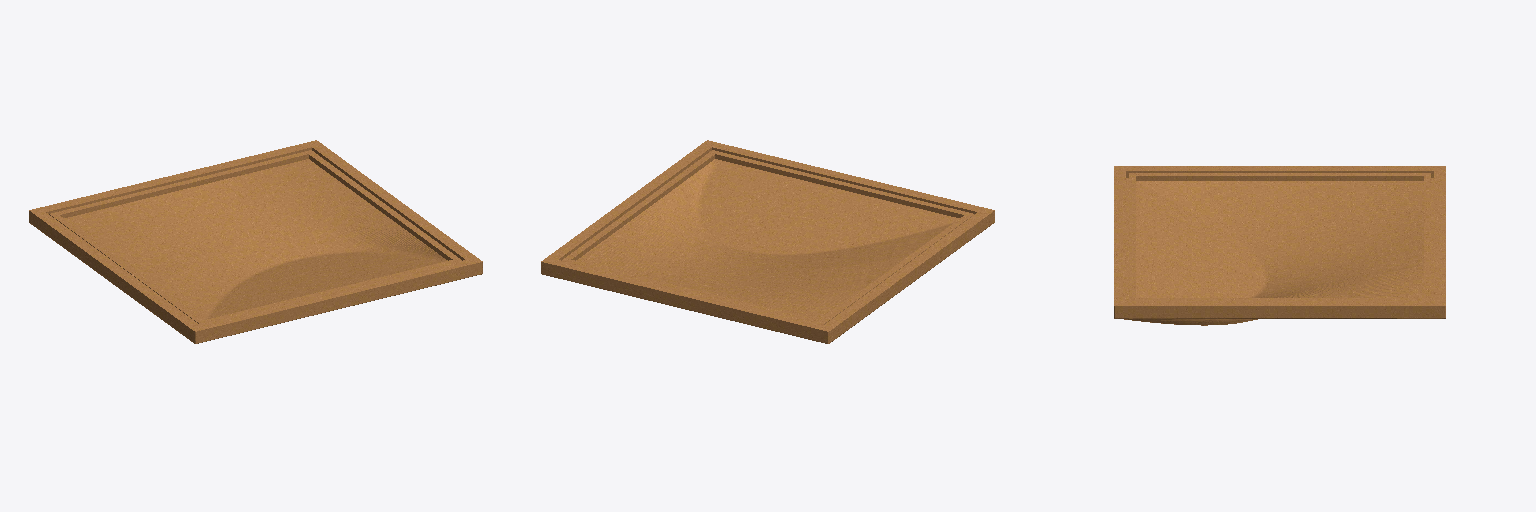
The picture shows the model from 3 angles: view 1: azimuth 30°, elevation 25°; view 2: azimuth 150°, elevation 25°; view 3: azimuth 270°, elevation 25°; orthographic projection.
Parts seen in each view (by area): view 1: default; view 2: default; view 3: default.
Part boxes in pixels (left/top/right/bottom): default: left=29, top=140, right=482, bottom=343; default: left=541, top=140, right=994, bottom=343; default: left=1114, top=166, right=1445, bottom=325.
Bounding box in the file's own units: 450 × 59.74 × 450.
1 materials, 1 textured.